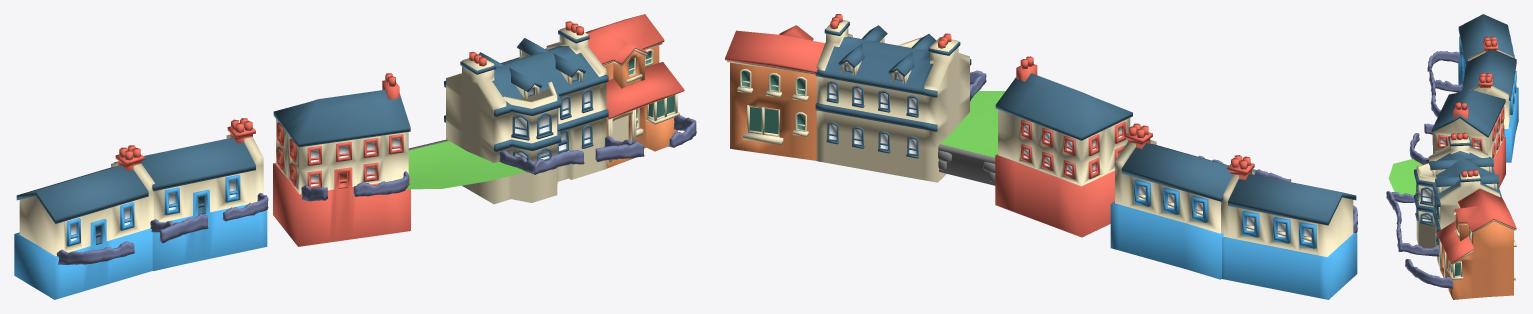
File: Building_Row.fbx
3 renders of one model, left to right at view 1: azimuth 30°, elevation 25°; view 2: azimuth 150°, elevation 25°; view 3: azimuth 270°, elevation 25°, orthographic. The views are drawn at different scales.
Visible parts, largest first — view 1: last buildings; view 2: last buildings; view 3: last buildings.
Boxes of the visible parts, x1,y1,x2,y2 form: last buildings: (14,14,696,299); last buildings: (725,14,1357,299); last buildings: (1386,14,1518,299).
Size of the model in its own units: 6853 by 1453 by 1709.
